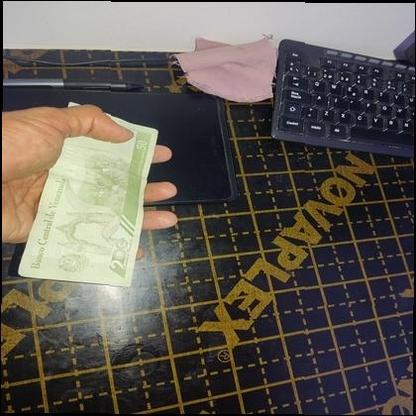fifty-back-vef: (18, 101, 159, 286)
